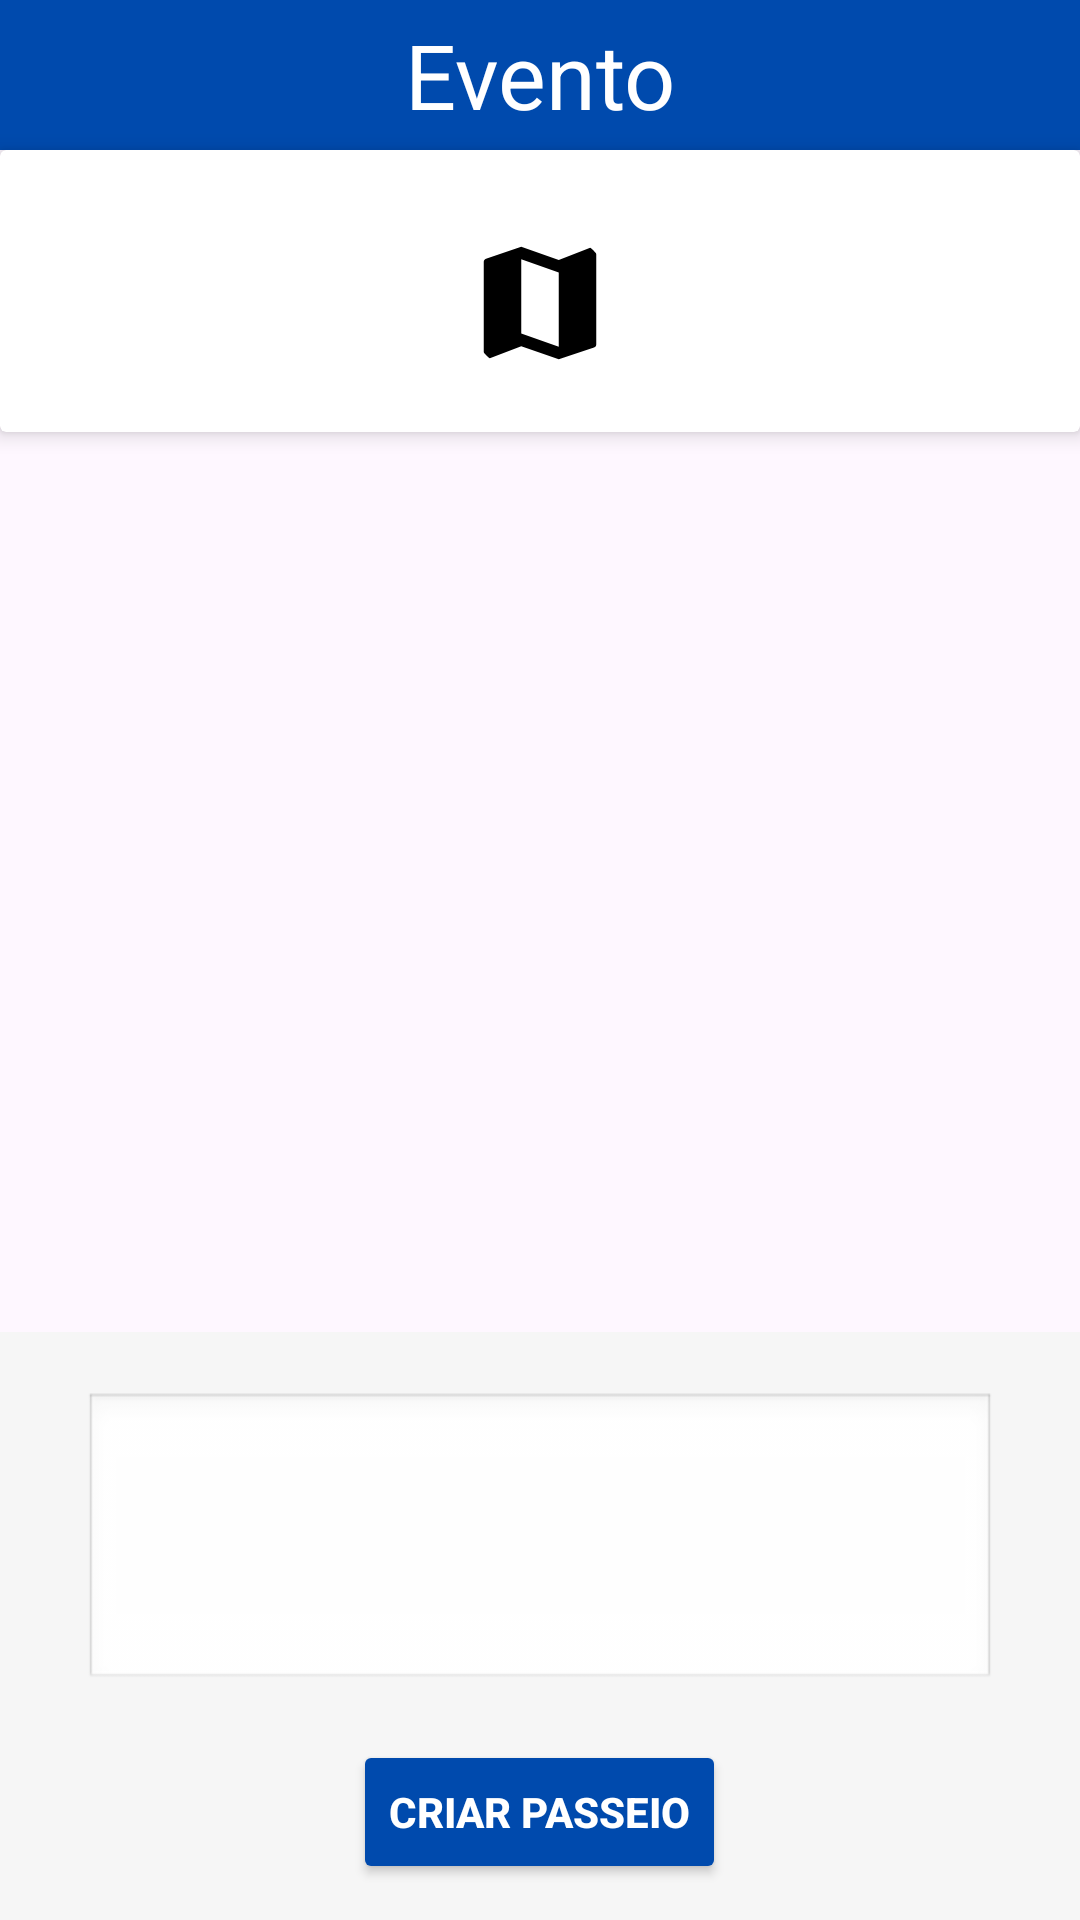

Screen size 1080px x 1920px. Icon name, then its center in pixels as (x,y):
map: (540,303)
